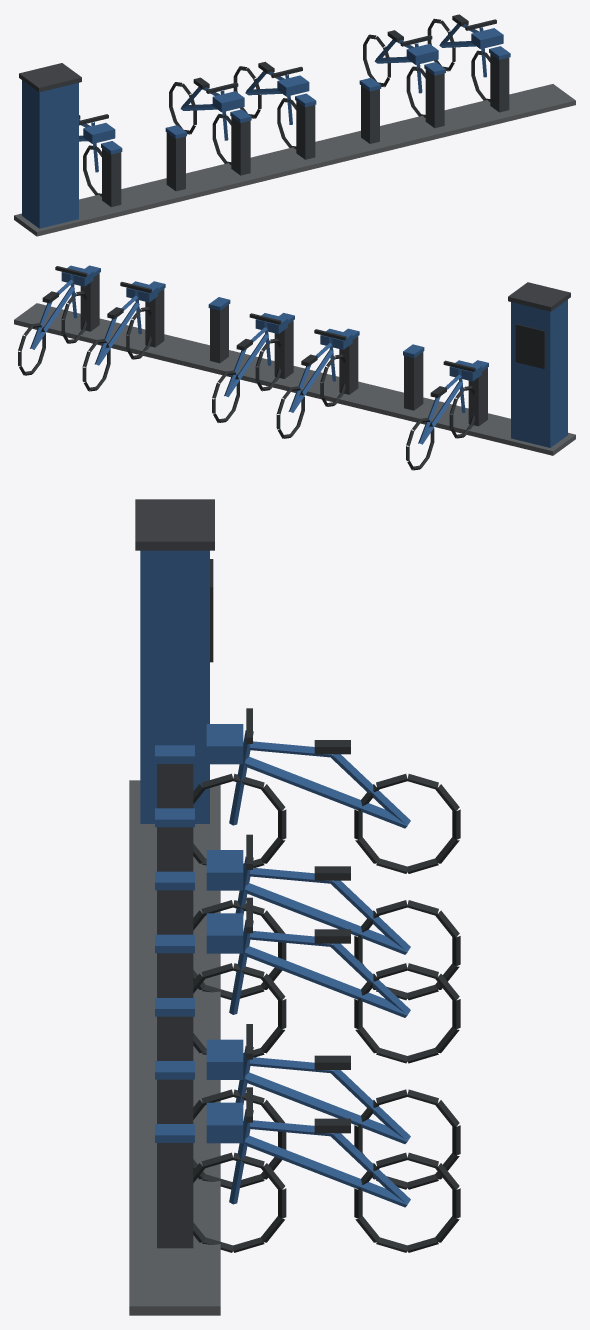
Rendered from bike-dock-DxKHhS5O.glb.
The picture shows the model from 3 angles, top to bottom: view 1: azimuth 30°, elevation 25°; view 2: azimuth 150°, elevation 25°; view 3: azimuth 270°, elevation 25°; orthographic projection. The views are drawn at different scales.
Parts seen in each view (by area): view 1: bike-dock; view 2: bike-dock; view 3: bike-dock.
Boxes of the visible parts, left/top/right/bottom form: bike-dock: left=14, top=14, right=575, bottom=236; bike-dock: left=14, top=265, right=575, bottom=470; bike-dock: left=129, top=499, right=460, bottom=1315.
Bounding box in the file's own units: 7.5 × 1.95 × 2.
